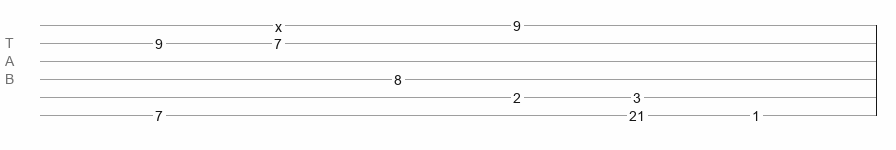1: (752, 108, 760, 118)
2: (513, 90, 521, 100)
21: (629, 108, 645, 118)
3: (633, 90, 641, 100)
7: (155, 108, 163, 118), (274, 36, 282, 46)
8: (394, 72, 402, 82)
9: (155, 36, 163, 46), (513, 18, 521, 28)
x: (275, 19, 282, 27)
